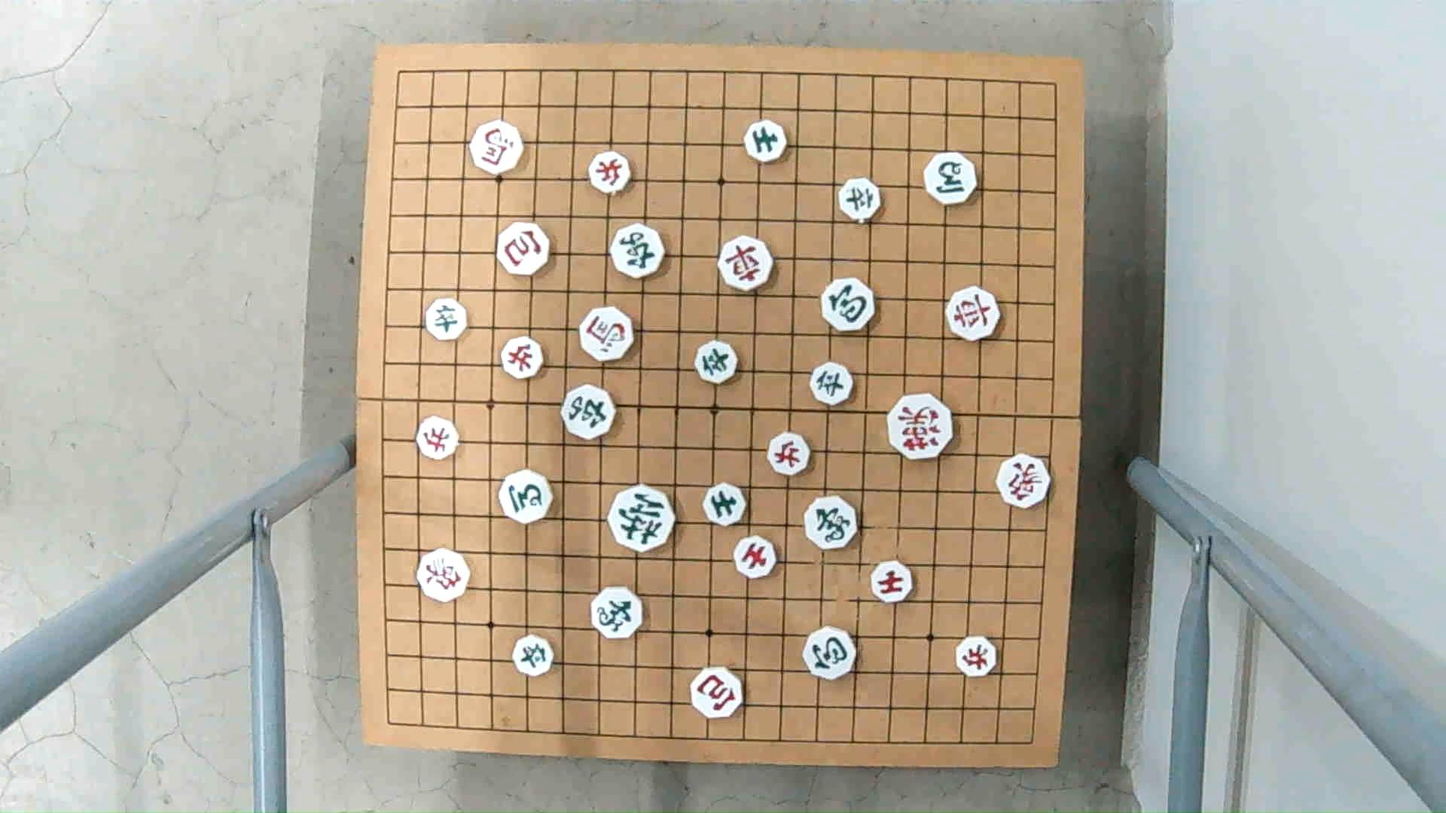cha_green: (610, 225, 664, 278), (564, 385, 613, 439)
cha_red: (946, 289, 1002, 340), (718, 239, 771, 286)
jol_green: (836, 178, 883, 220), (693, 340, 737, 382), (808, 363, 856, 401), (423, 299, 469, 337), (512, 637, 557, 675)
jol_red: (499, 337, 543, 380), (953, 638, 999, 678), (766, 434, 812, 474), (589, 153, 633, 193), (416, 419, 460, 457)
ma_green: (923, 154, 978, 203), (498, 472, 554, 520)
ma_red: (580, 307, 636, 361), (466, 122, 523, 172)
po_green: (802, 629, 859, 679), (819, 281, 874, 329)
po_red: (496, 224, 551, 275), (688, 668, 744, 717)
sa_green: (701, 485, 749, 525), (742, 120, 788, 160)
sa_red: (732, 537, 777, 577), (872, 563, 911, 601)
sang_green: (801, 498, 858, 547), (590, 587, 643, 638)
sang_red: (995, 456, 1053, 507), (418, 550, 470, 601)
wang_green: (609, 489, 677, 547)
wang_red: (886, 400, 956, 457)
